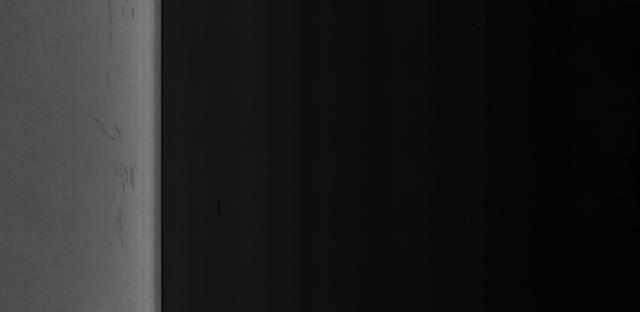water_spot: (105, 137, 141, 254)
